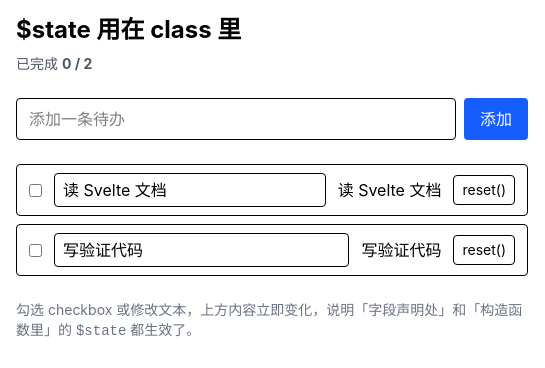
/state-class 页面 › 编辑输入框会同步更新展示（构造函数里的 $state 生效）
The width and height of the screenshot is (545, 368).
Replace the text in the field with test id "todo-input-0" with "读 Svelte 5 runes 文档" at (190, 190), box [54,173,326,207]
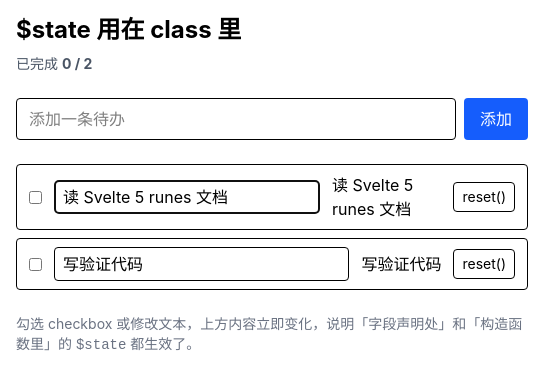
Expected: the text with test id "todo-text-0" reads "读 Svelte 5 runes 文档", [332,175,413,219]
